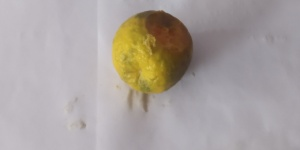BAD: (112, 11, 193, 93)
